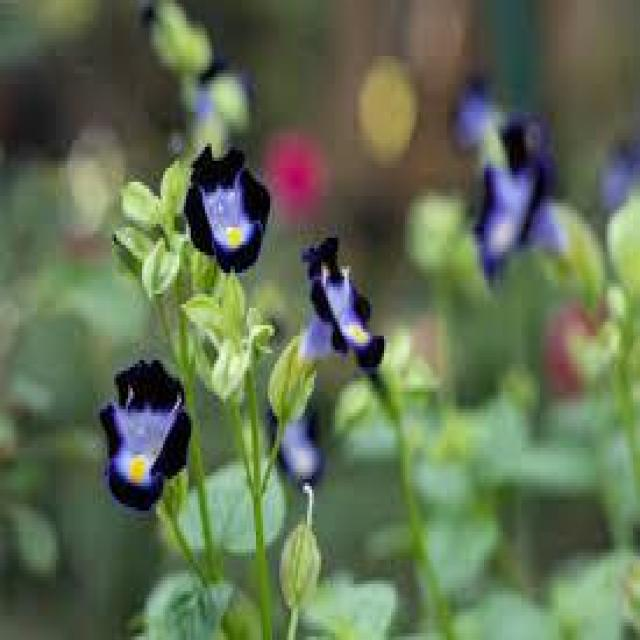organic waste: (95, 350, 202, 514), (304, 231, 397, 392), (179, 142, 289, 274)
